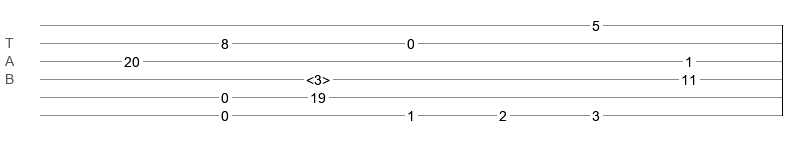0: (221, 108, 229, 118), (221, 90, 229, 100), (407, 36, 415, 46)
1: (407, 108, 415, 118), (685, 54, 693, 64)
11: (681, 72, 697, 82)
19: (310, 90, 326, 100)
2: (499, 108, 507, 118)
20: (124, 54, 140, 64)
3: (592, 108, 600, 118)
5: (592, 18, 600, 28)
8: (221, 36, 229, 46)
harmonic: (306, 72, 330, 82)
